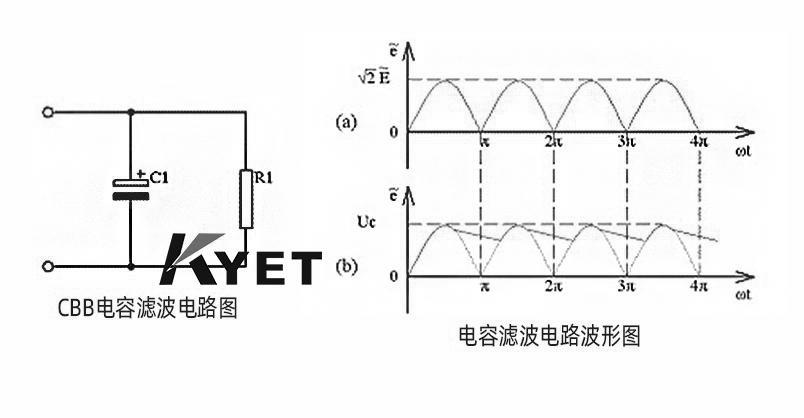cap1: (110, 177, 151, 204)
res1: (236, 164, 256, 232)
